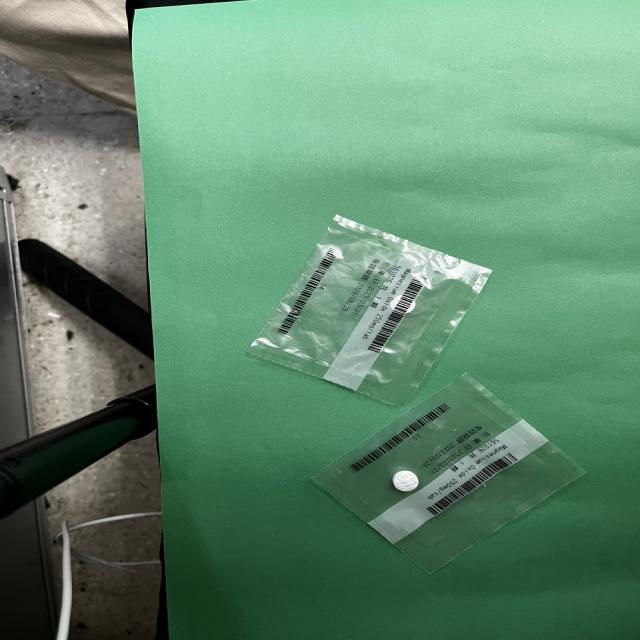Other Objects: (311, 374, 583, 573), (248, 215, 491, 406)
